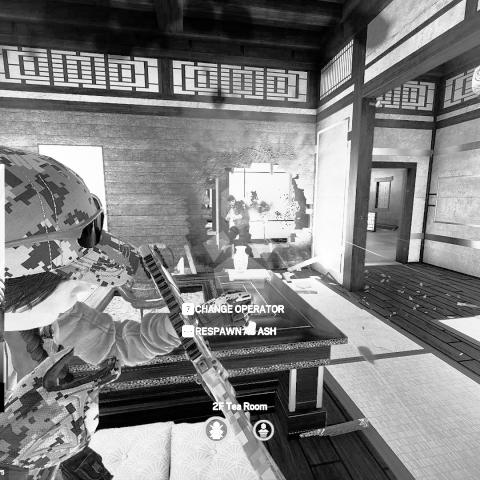Character: (1, 145, 254, 480), (223, 193, 255, 260)
Head: (2, 145, 142, 335), (226, 194, 236, 208)
